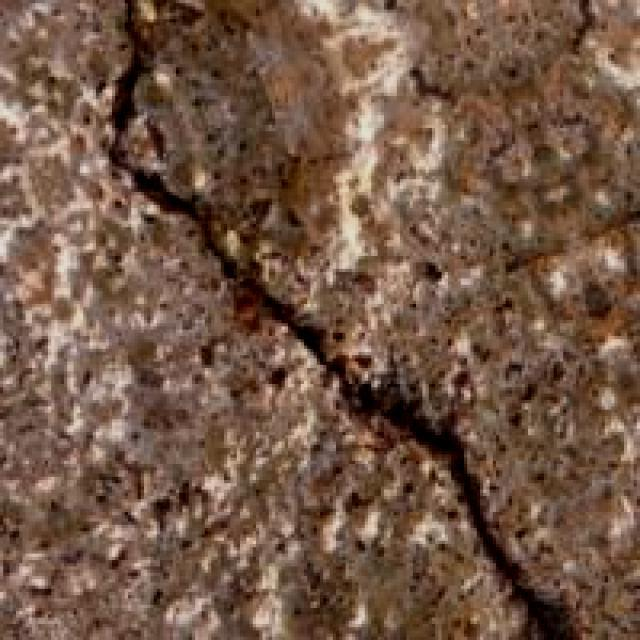crack: (68, 0, 578, 640)
